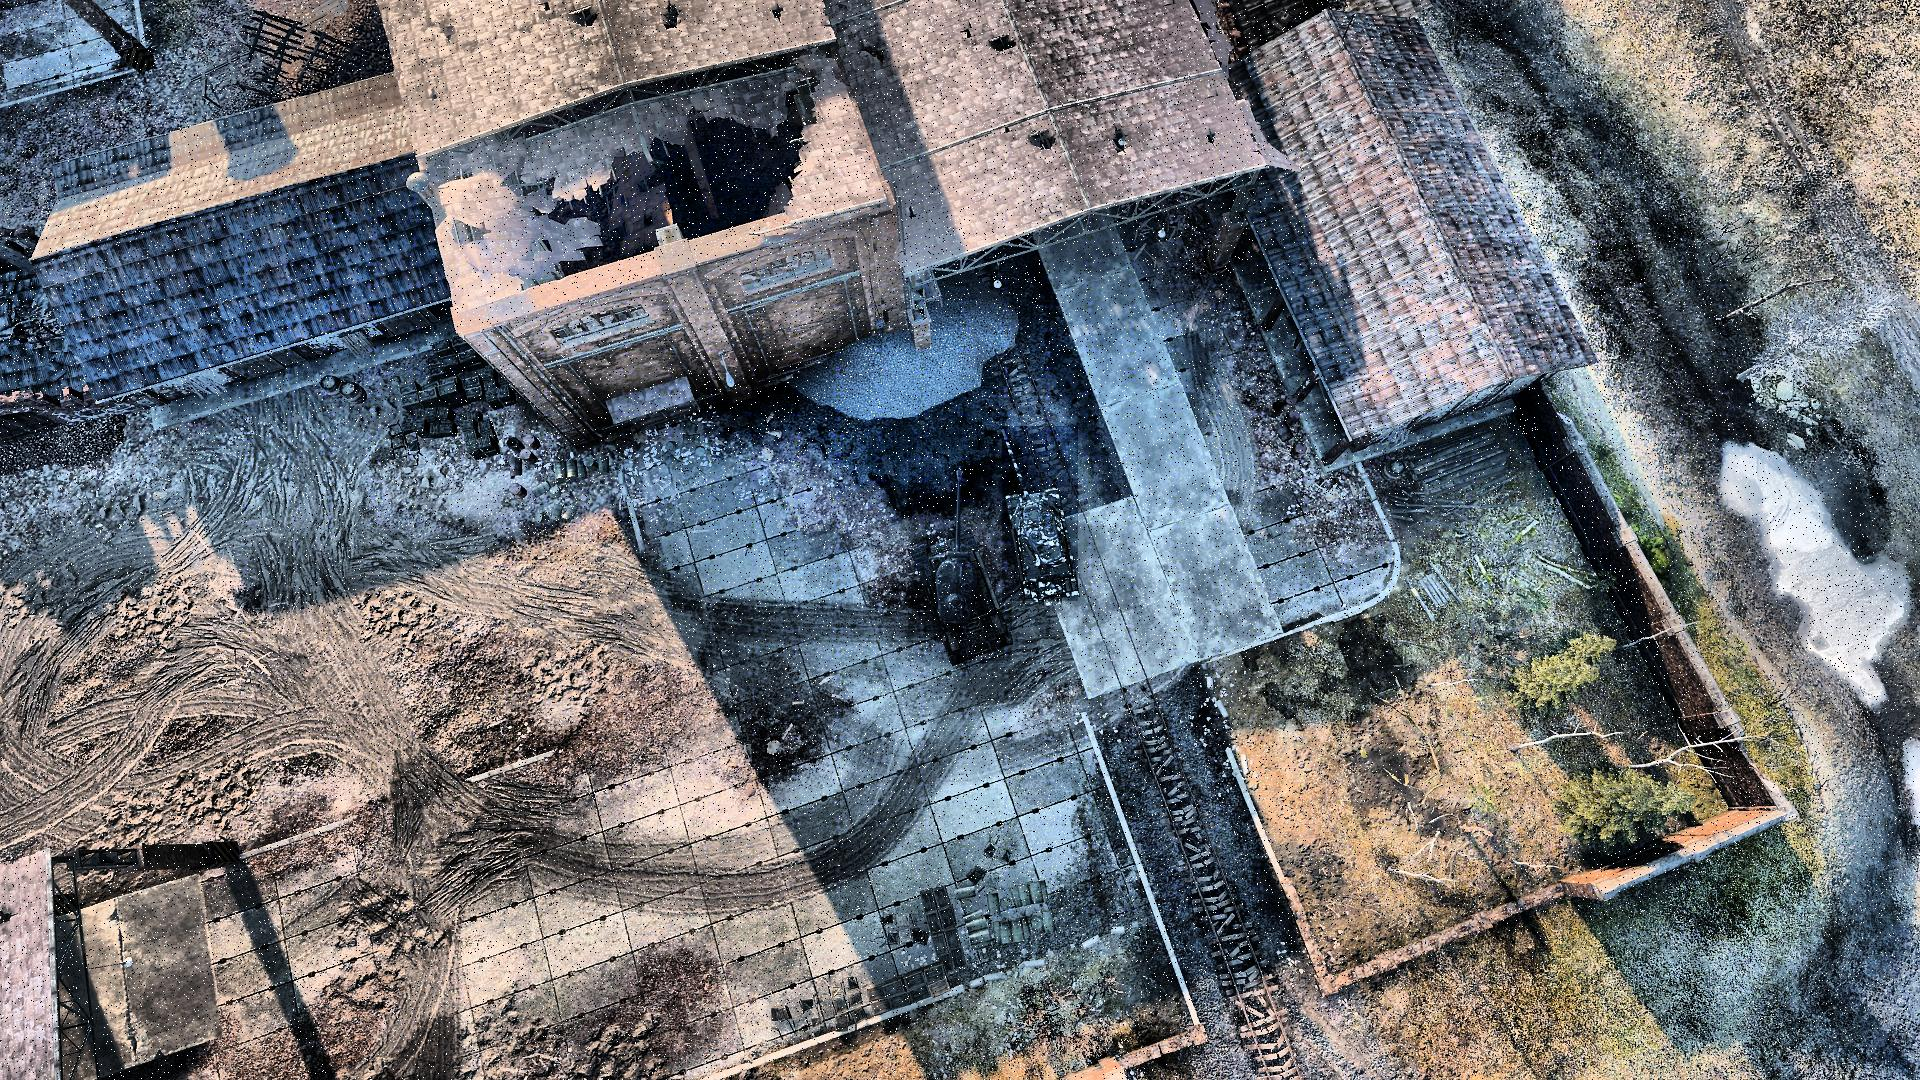military-vehicle: (909, 467, 1011, 663), (1002, 427, 1079, 601)
